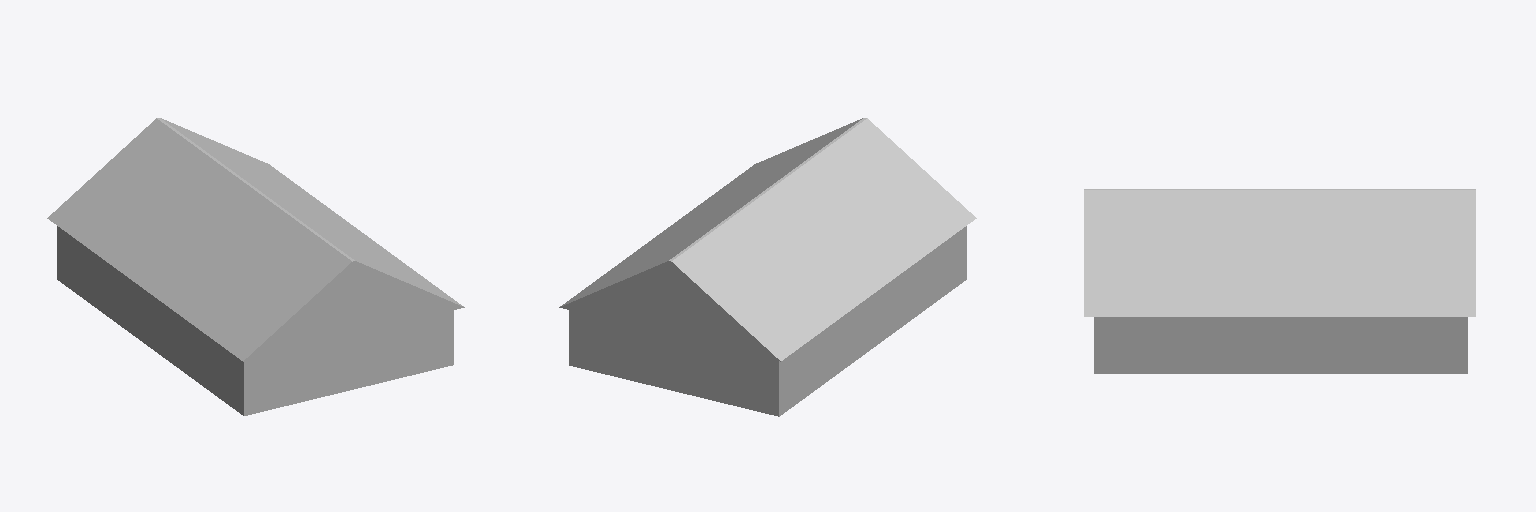
The model's file is logCabin.obj.
The picture shows the model from 3 angles: view 1: azimuth 30°, elevation 25°; view 2: azimuth 150°, elevation 25°; view 3: azimuth 270°, elevation 25°; orthographic projection.
Visible parts, largest first — view 1: Roof_Cube.001, house_Body_Cube; view 2: Roof_Cube.001, house_Body_Cube; view 3: Roof_Cube.001, house_Body_Cube.
Boxes of the visible parts, x1,y1,x2,y2 form: Roof_Cube.001: [47, 118, 464, 361]; house_Body_Cube: [57, 226, 453, 415]; Roof_Cube.001: [559, 118, 976, 361]; house_Body_Cube: [569, 226, 966, 416]; Roof_Cube.001: [1084, 189, 1475, 316]; house_Body_Cube: [1094, 317, 1467, 373].
Bounding box in the file's own units: 6.33 × 3.62 × 9.68.